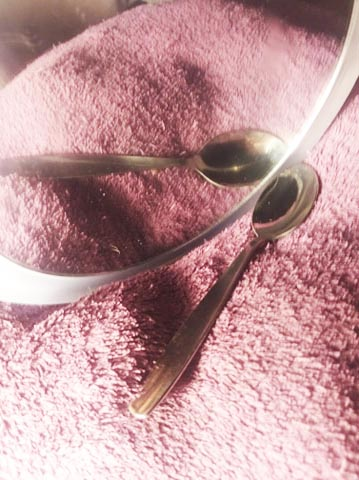Lyzka: (176, 117, 288, 193), (249, 161, 325, 239)
